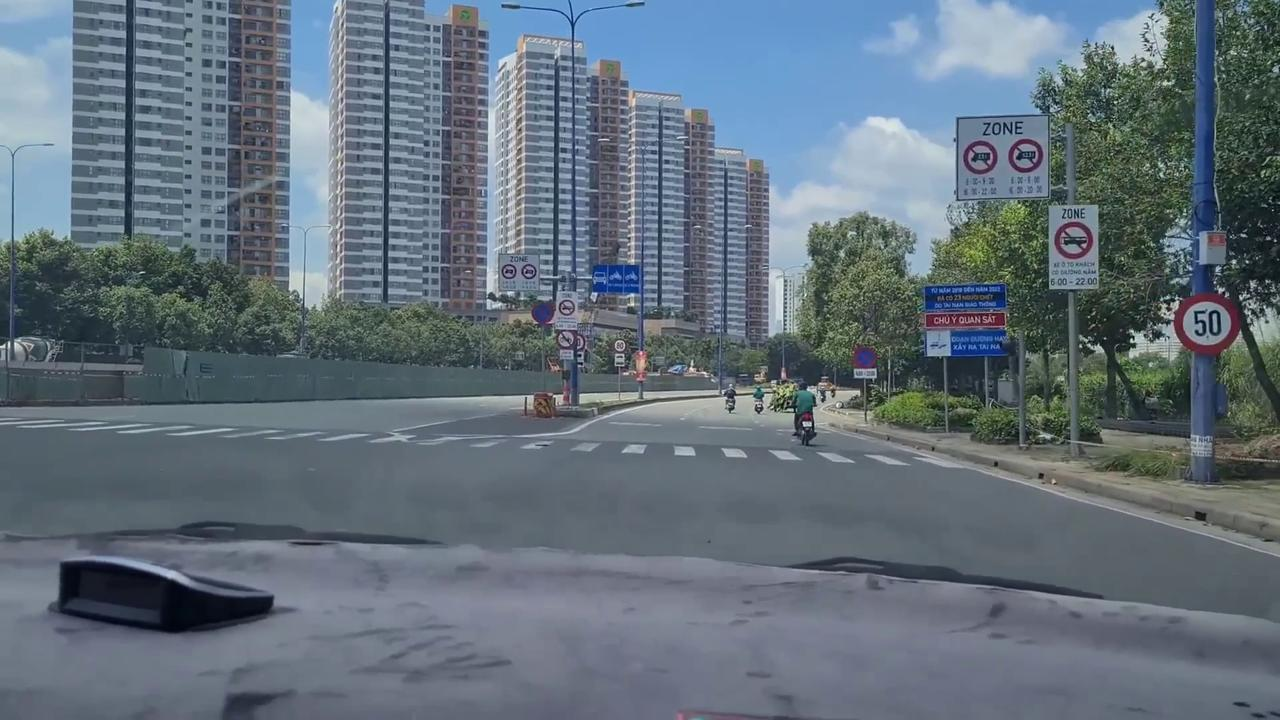Biển phụ: (853, 368, 878, 379), (614, 353, 626, 367)
Cấm cac phương tiện hoạt động trong khung giờ cố định: (954, 114, 1052, 200), (1046, 202, 1102, 292), (496, 251, 542, 293), (555, 290, 579, 330)
Cấm dừng - Cấm đỗ: (530, 300, 554, 324), (853, 346, 877, 369)
Cấm xe máy: (556, 329, 577, 349)
Giới hạn tốc độ 50Km/h: (1174, 292, 1242, 354)
Giới hạn tốc độ 80Km/h: (614, 338, 627, 352)
Khác: (921, 282, 1010, 357)
Làn đường cho từng xe: (592, 263, 640, 295)
